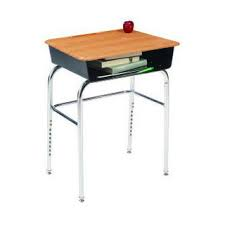desk: (44, 27, 180, 201)
